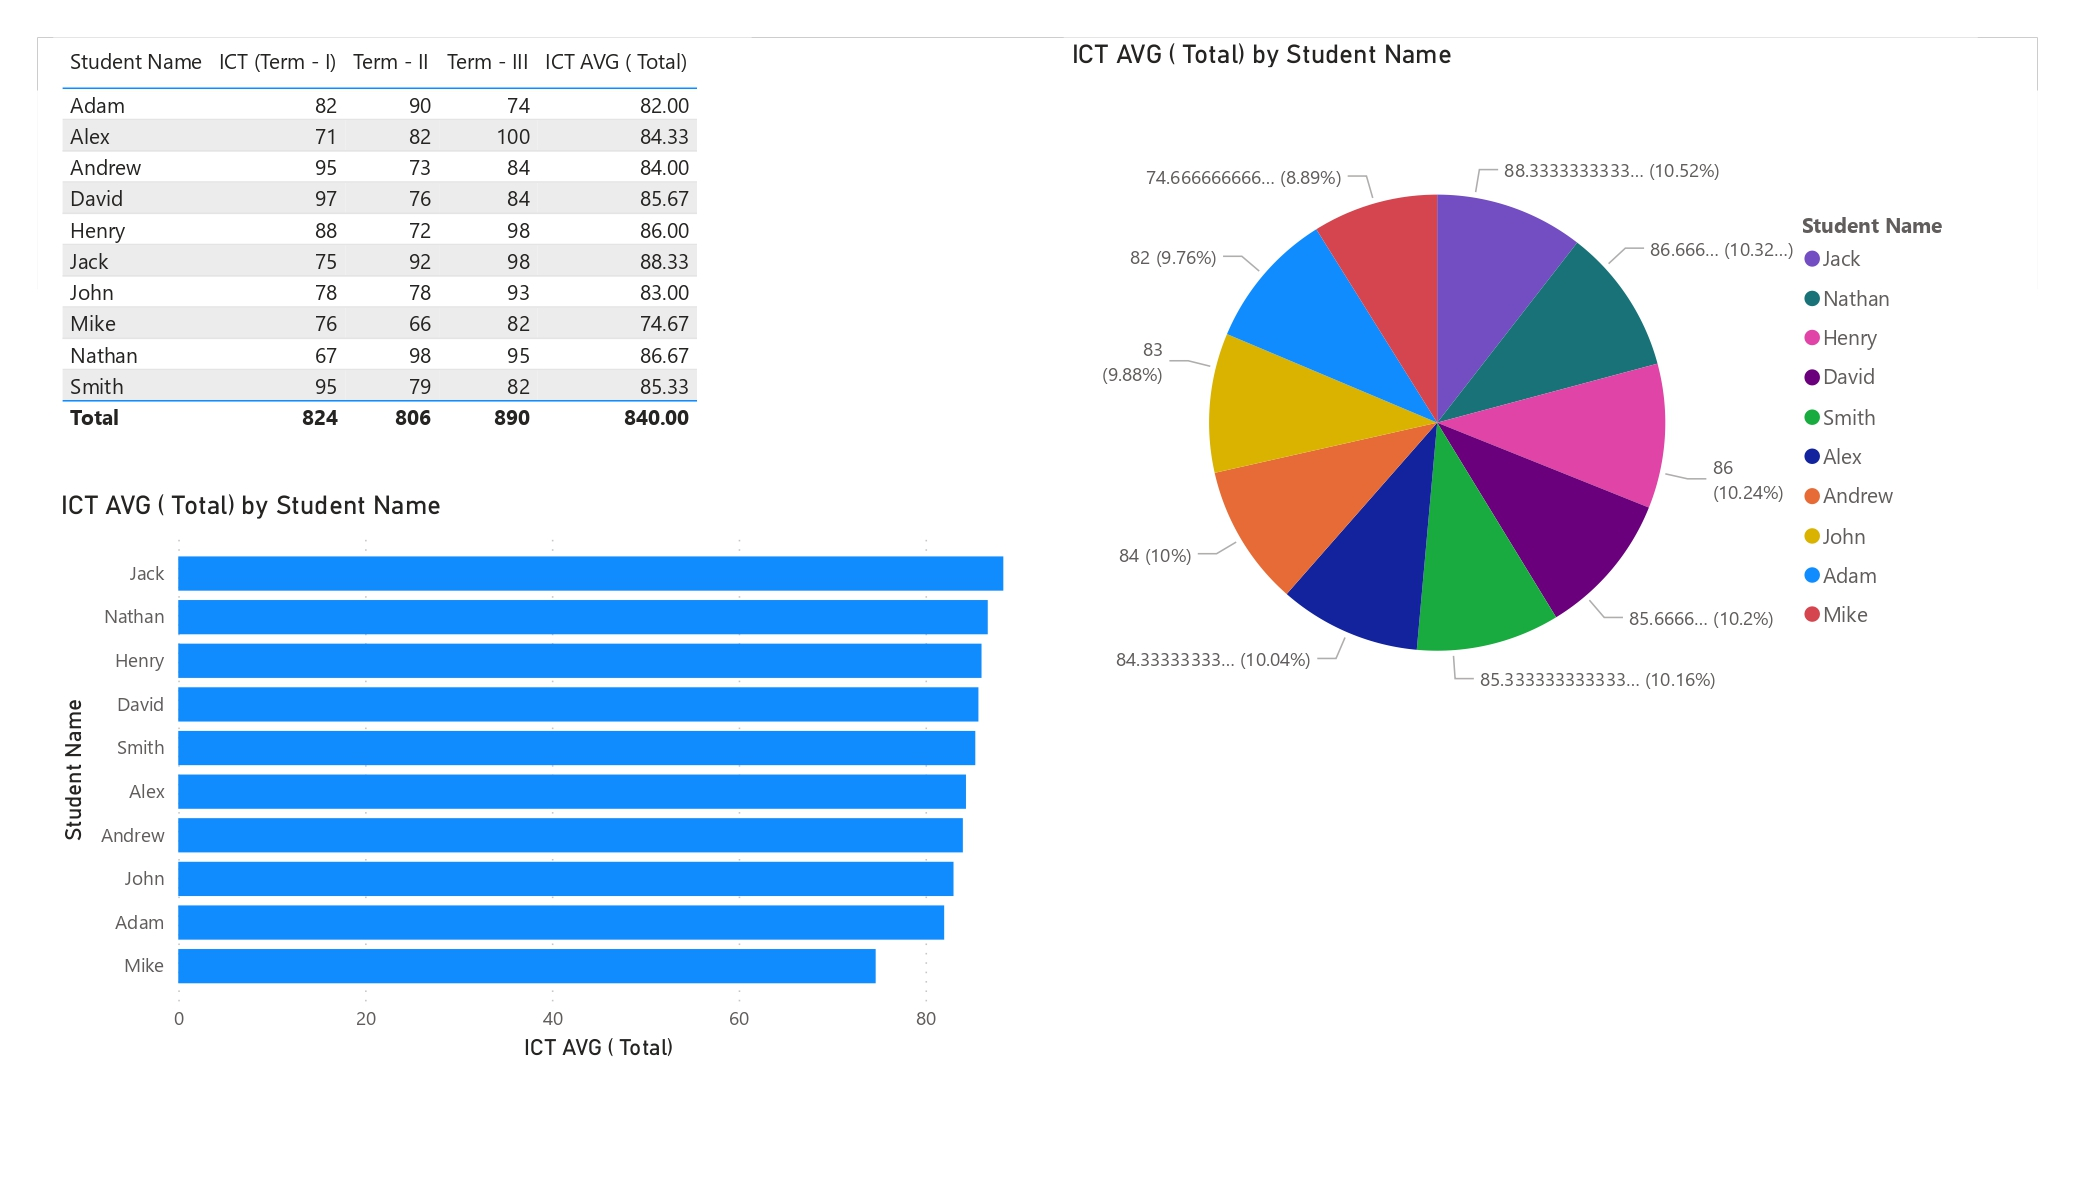

The dashboard page shown, as its layout file describes it:
{"tool":"powerbi","page":{"name":"Exam Report for information and Communication Technology","canvas":[1280,720],"ordinal":5},"visuals":[{"type":"tableEx","fields":{"Values":["student report.Student Name","Sum(student report.ICT   (Term - I))","Sum(student report.Term - II)","Sum(student report.Term - III)","Sum(student report.ICT AVG ( Total))"]},"box":[10.1,0,446.8,288.9],"z":0},{"type":"clusteredBarChart","fields":{"Category":["student report.Student Name"],"Y":["Sum(student report.ICT AVG ( Total))"]},"box":[10.1,288.9,629.9,369.6],"z":1},{"type":"pieChart","fields":{"Category":["student report.Student Name"],"Y":["Sum(student report.ICT AVG ( Total))"]},"box":[656.8,0,584.6,473.7],"z":2}]}

Visuals, with their boxes on the page's 1280x720 design canvas (x1, y1, x2, y2). These are canvas units, not pixel positions in the 2075x1200 screenshot, which may show the page scaled, cropped or inside an application window:
tableEx - student report.Student Name x Sum(student report.ICT   (Term - I)): Rect(10, 0, 457, 289)
clusteredBarChart - student report.Student Name x Sum(student report.ICT AVG ( Total)): Rect(10, 289, 640, 658)
pieChart - student report.Student Name x Sum(student report.ICT AVG ( Total)): Rect(657, 0, 1241, 474)
